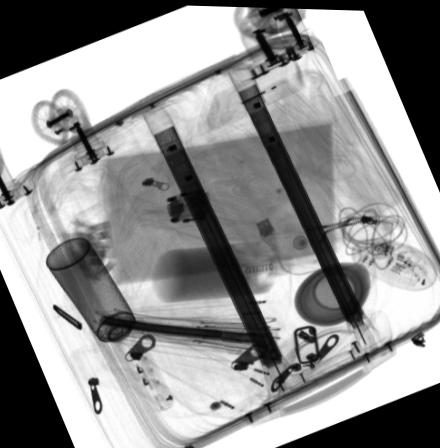Sprayer: (45, 237, 149, 359)
